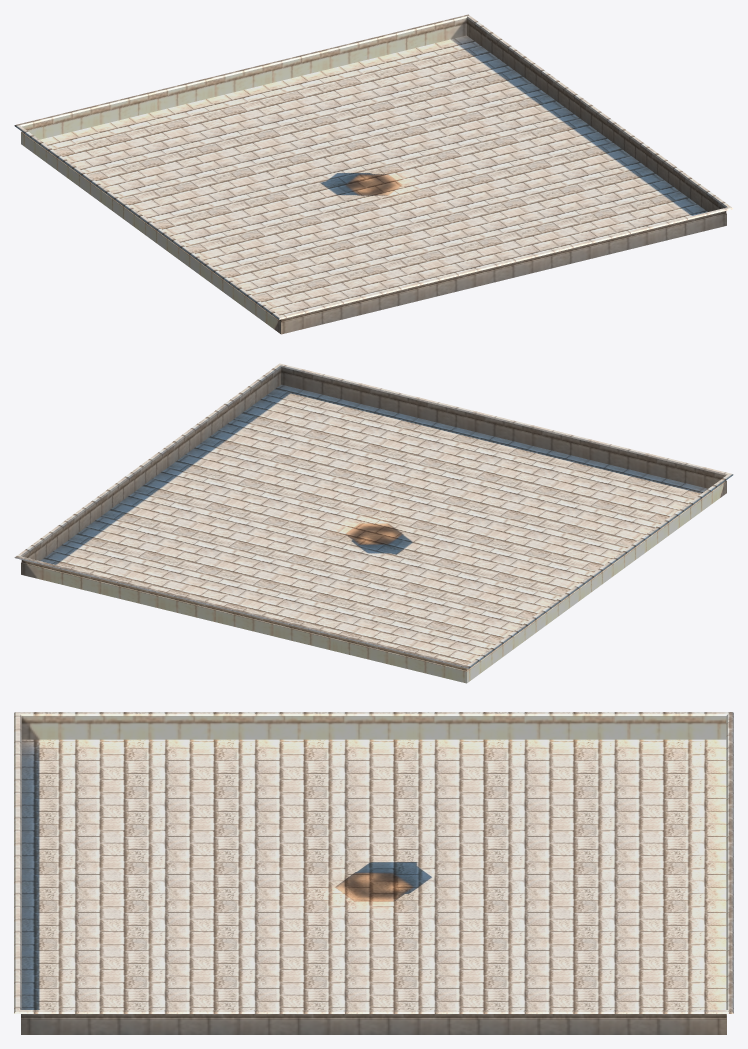
File: DPlane.FBX
The picture shows the model from 3 angles, top to bottom: view 1: azimuth 30°, elevation 25°; view 2: azimuth 150°, elevation 25°; view 3: azimuth 270°, elevation 25°; orthographic projection. The views are drawn at different scales.
Visible parts, largest first — view 1: DPlane; view 2: DPlane; view 3: DPlane.
Boxes of the visible parts, left/top/right/bottom form: DPlane: left=14, top=14, right=733, bottom=334; DPlane: left=14, top=363, right=733, bottom=683; DPlane: left=14, top=712, right=733, bottom=1034.
Bounding box in the file's own units: 198 × 7.79 × 200.
Materials: 1 (1 with a texture image).
